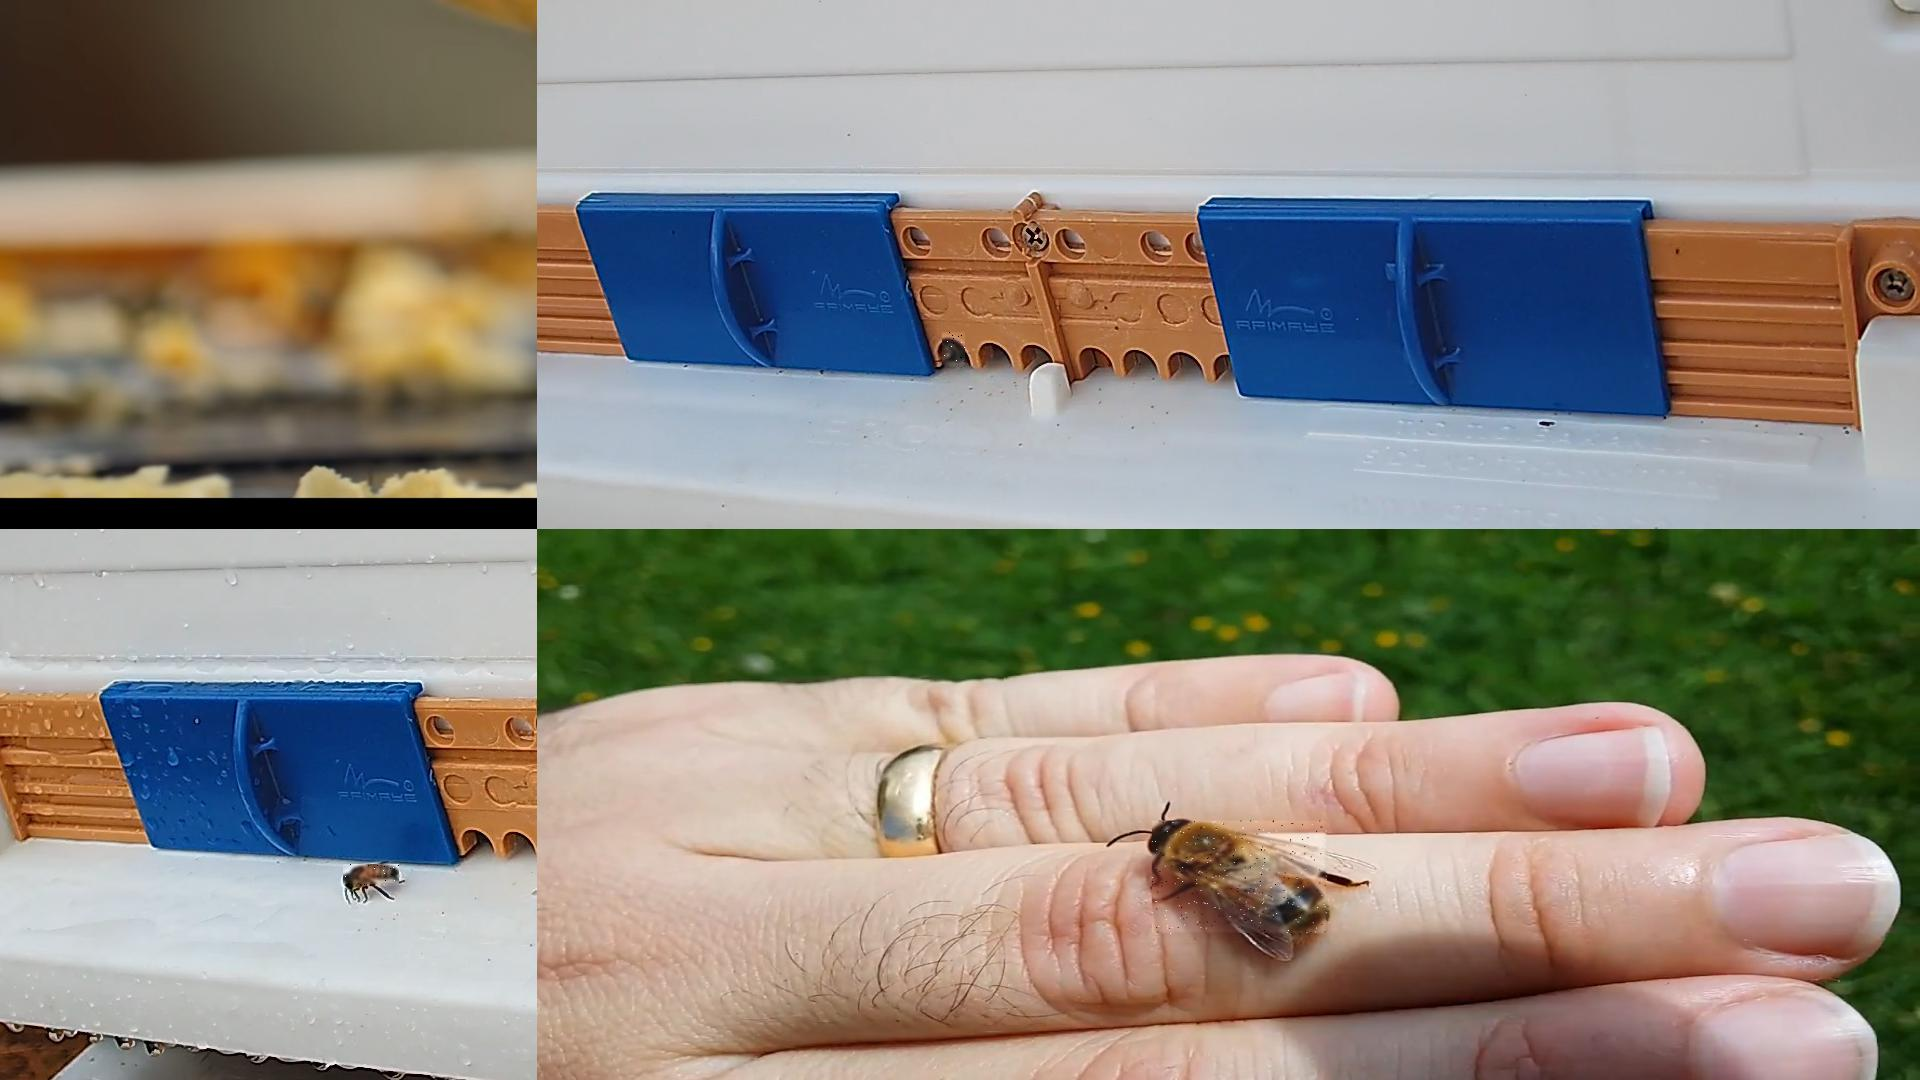bee: (343, 865, 400, 887), (942, 333, 966, 368)
drone: (1153, 821, 1329, 935)
